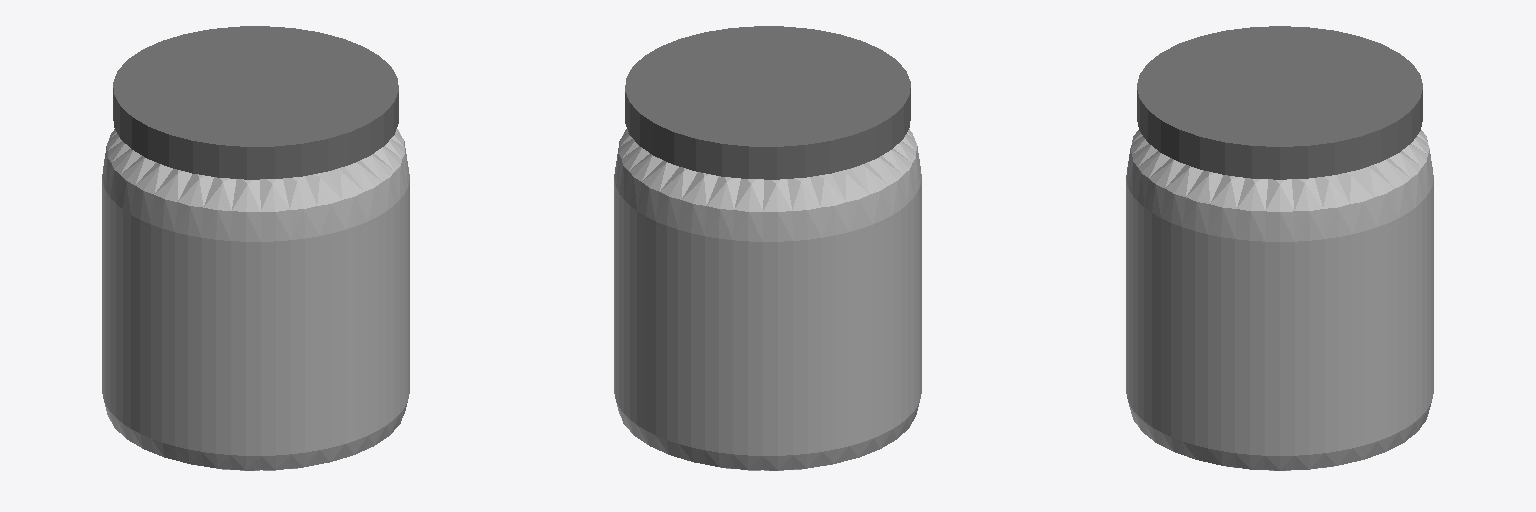
3 renders of one model, left to right at view 1: azimuth 30°, elevation 25°; view 2: azimuth 150°, elevation 25°; view 3: azimuth 270°, elevation 25°, orthographic.
Parts seen in each view (by area): view 1: Cylinder.003; view 2: Cylinder.003; view 3: Cylinder.003.
Boxes of the visible parts, box(x1,y1,x2,y2) form: Cylinder.003: box(102, 26, 409, 470); Cylinder.003: box(614, 26, 921, 470); Cylinder.003: box(1126, 26, 1433, 470).
Bounding box in the file's own units: 0.1158 × 0.1408 × 0.1158.
1 materials, 1 textured.